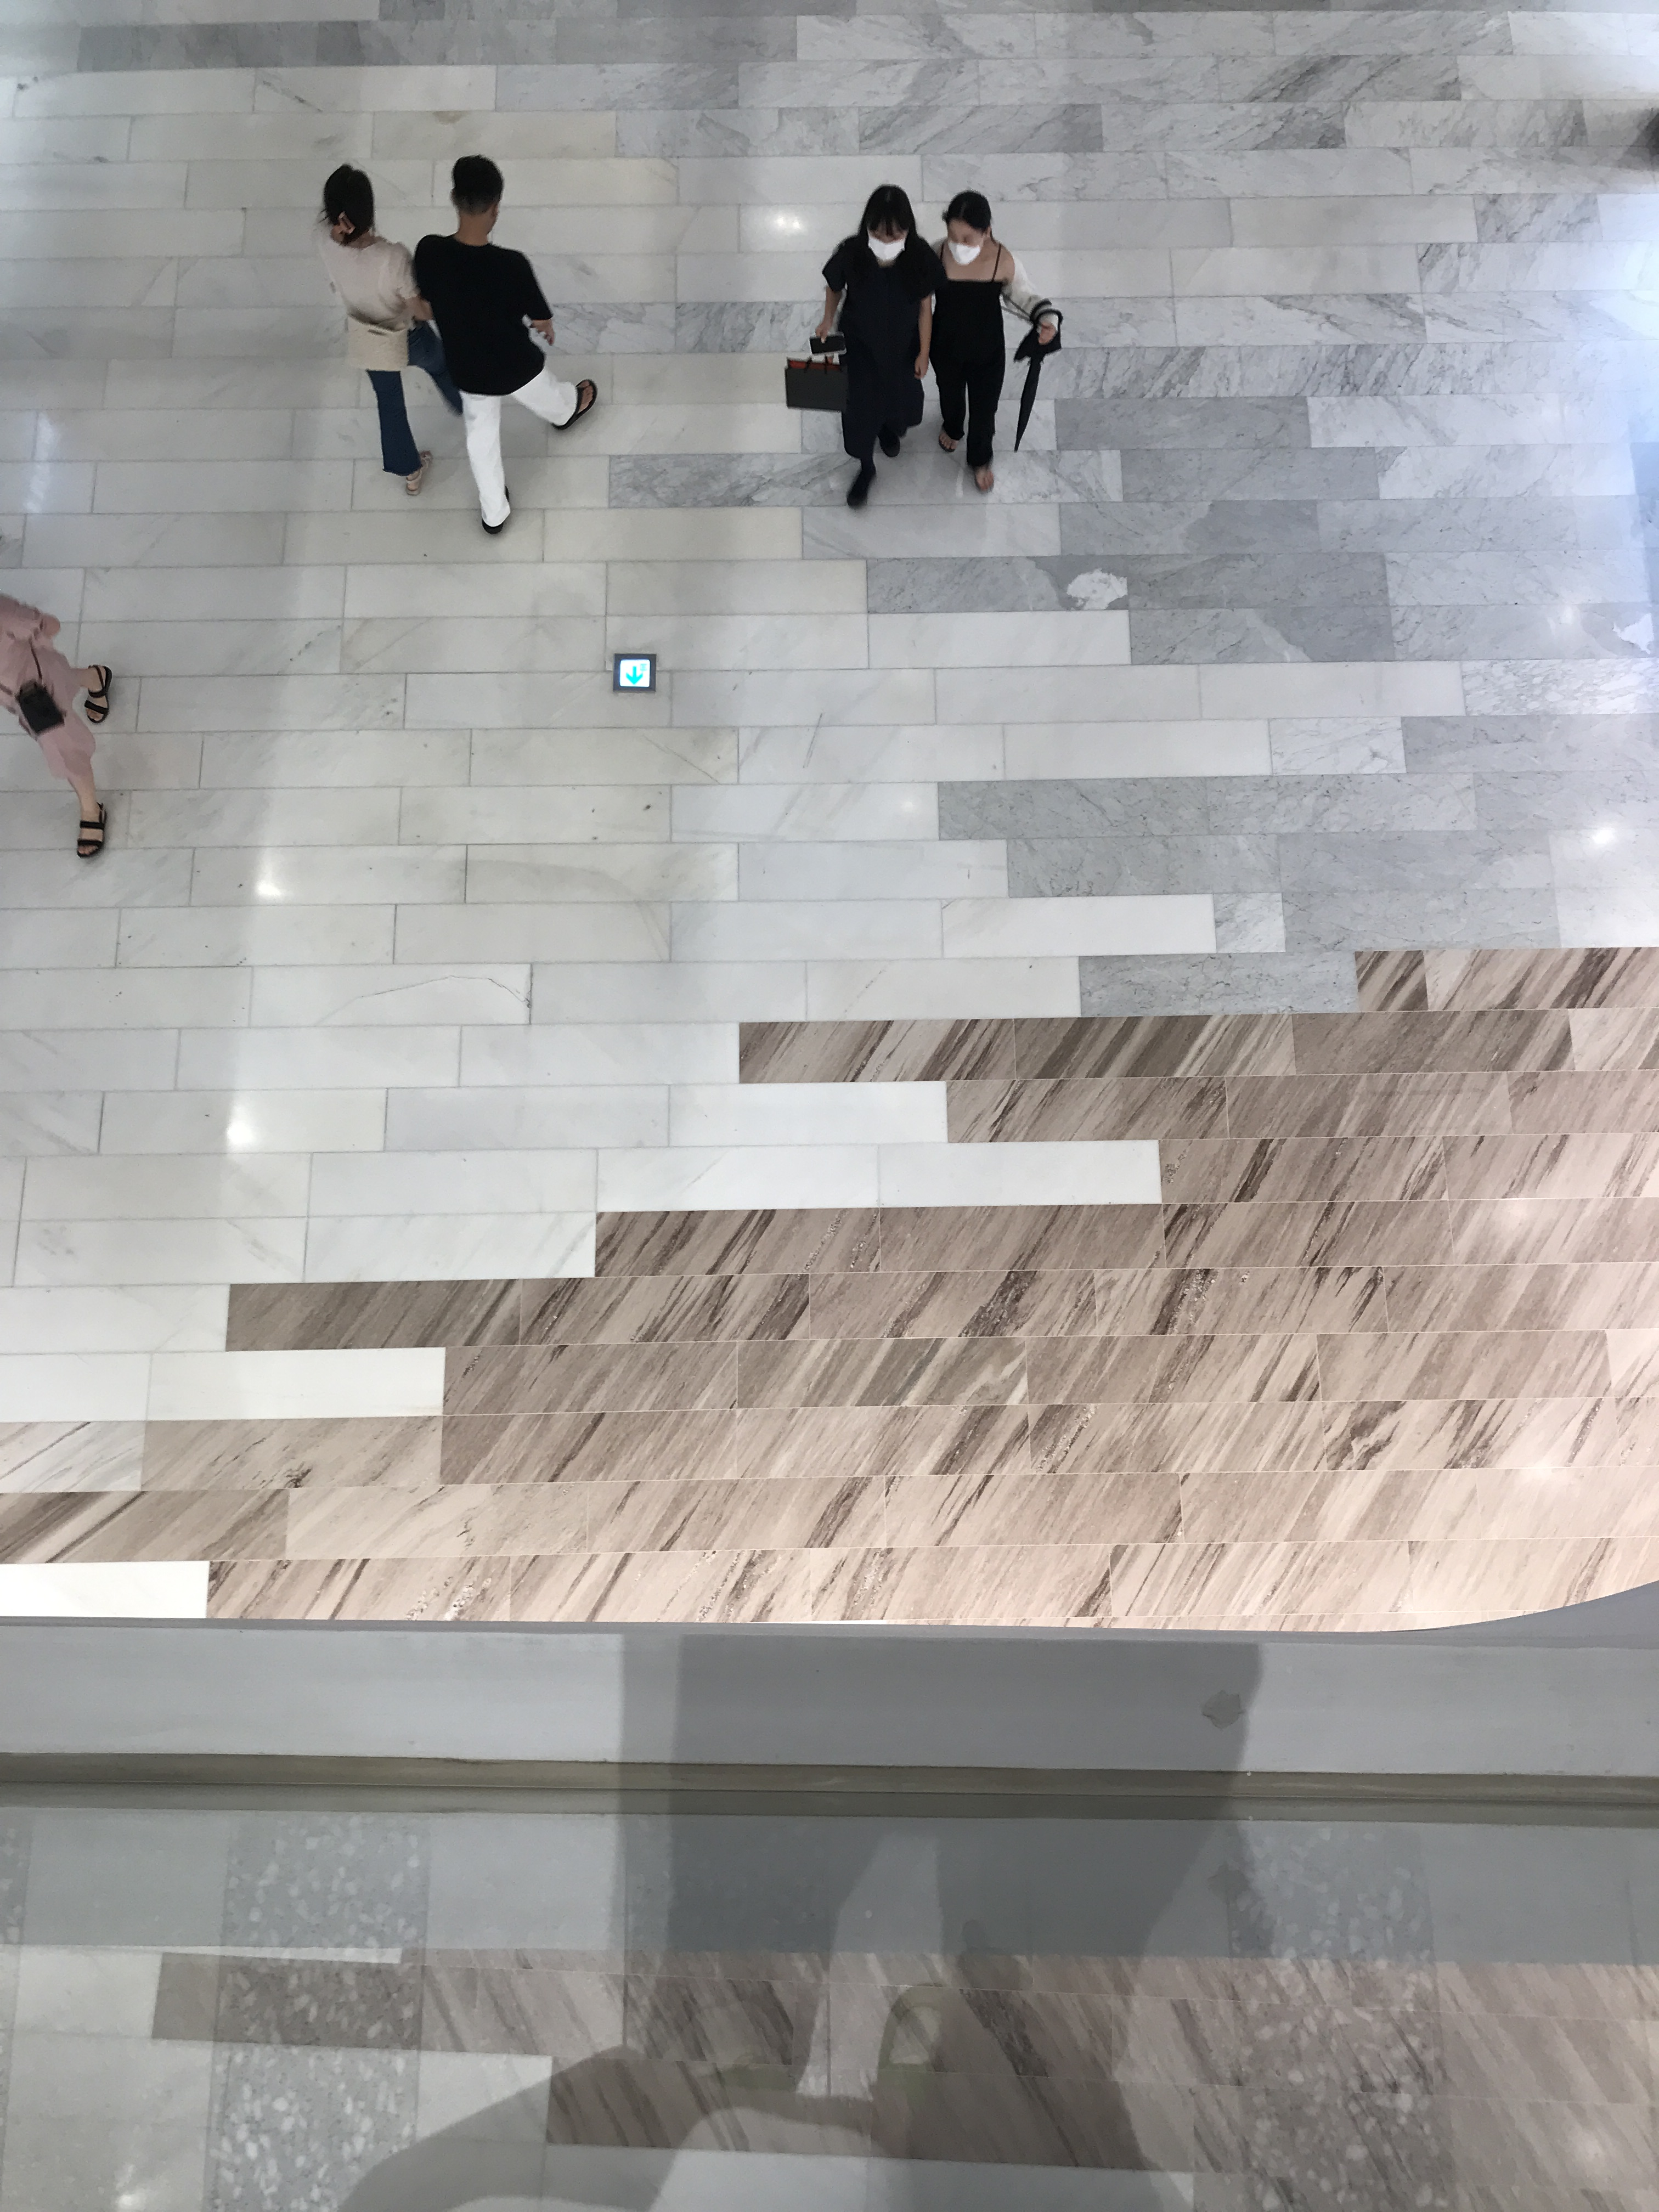person: (414, 154, 597, 538), (318, 164, 464, 501), (927, 188, 1062, 501), (809, 182, 932, 516), (1, 591, 114, 863)
